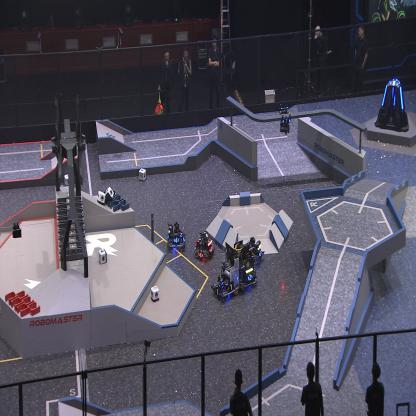car: (210, 243, 240, 301), (234, 239, 257, 291), (166, 220, 186, 254), (194, 231, 214, 261), (246, 237, 265, 266)
